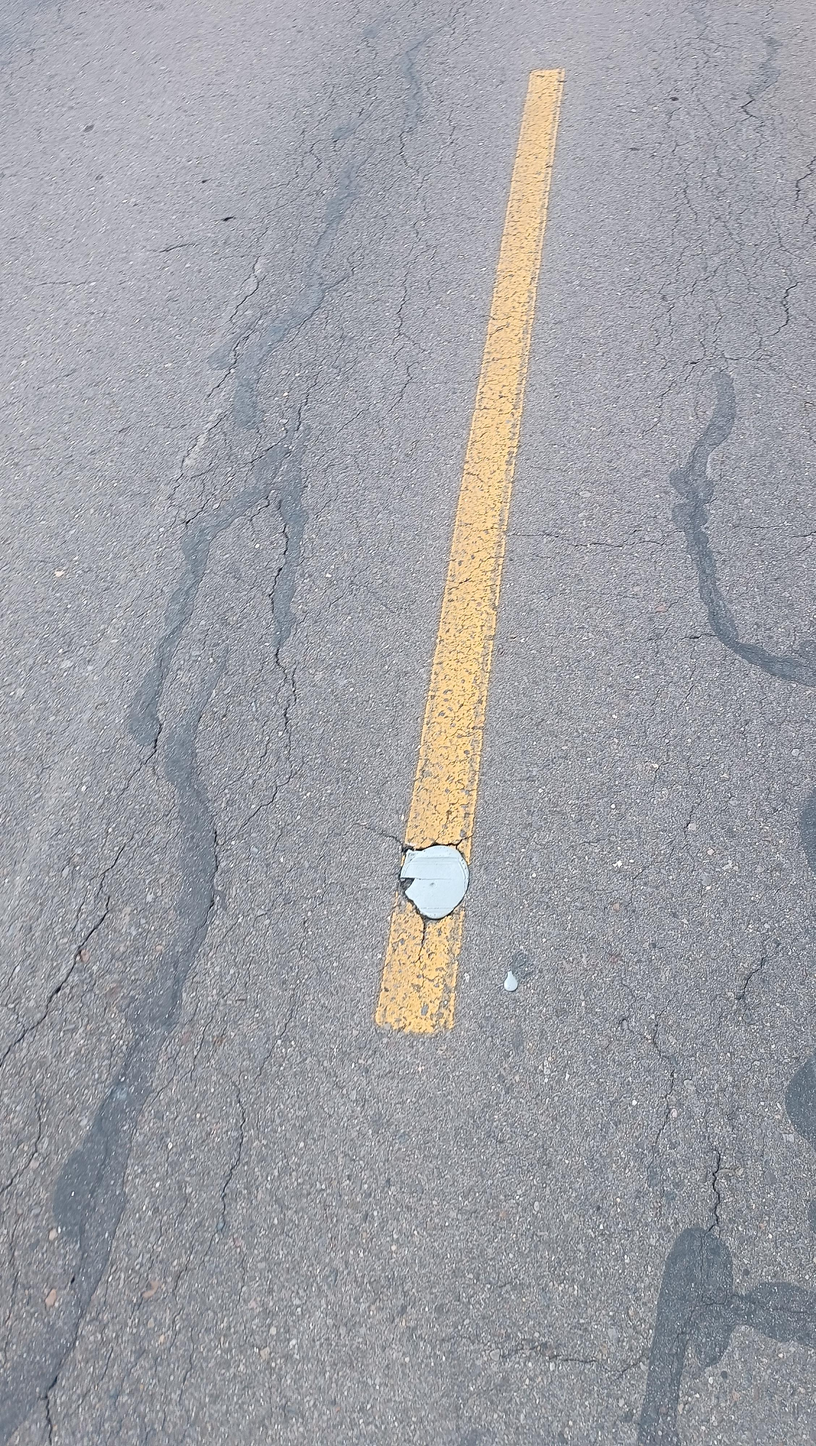GRIETA: (687, 404, 816, 684), (651, 995, 677, 1149), (741, 946, 787, 999), (703, 1150, 722, 1241)
PARCHE: (638, 1227, 816, 1446), (785, 1052, 816, 1152)
PIEL DE COCODRILO: (0, 442, 365, 1446), (195, 10, 477, 448), (622, 0, 816, 403)
